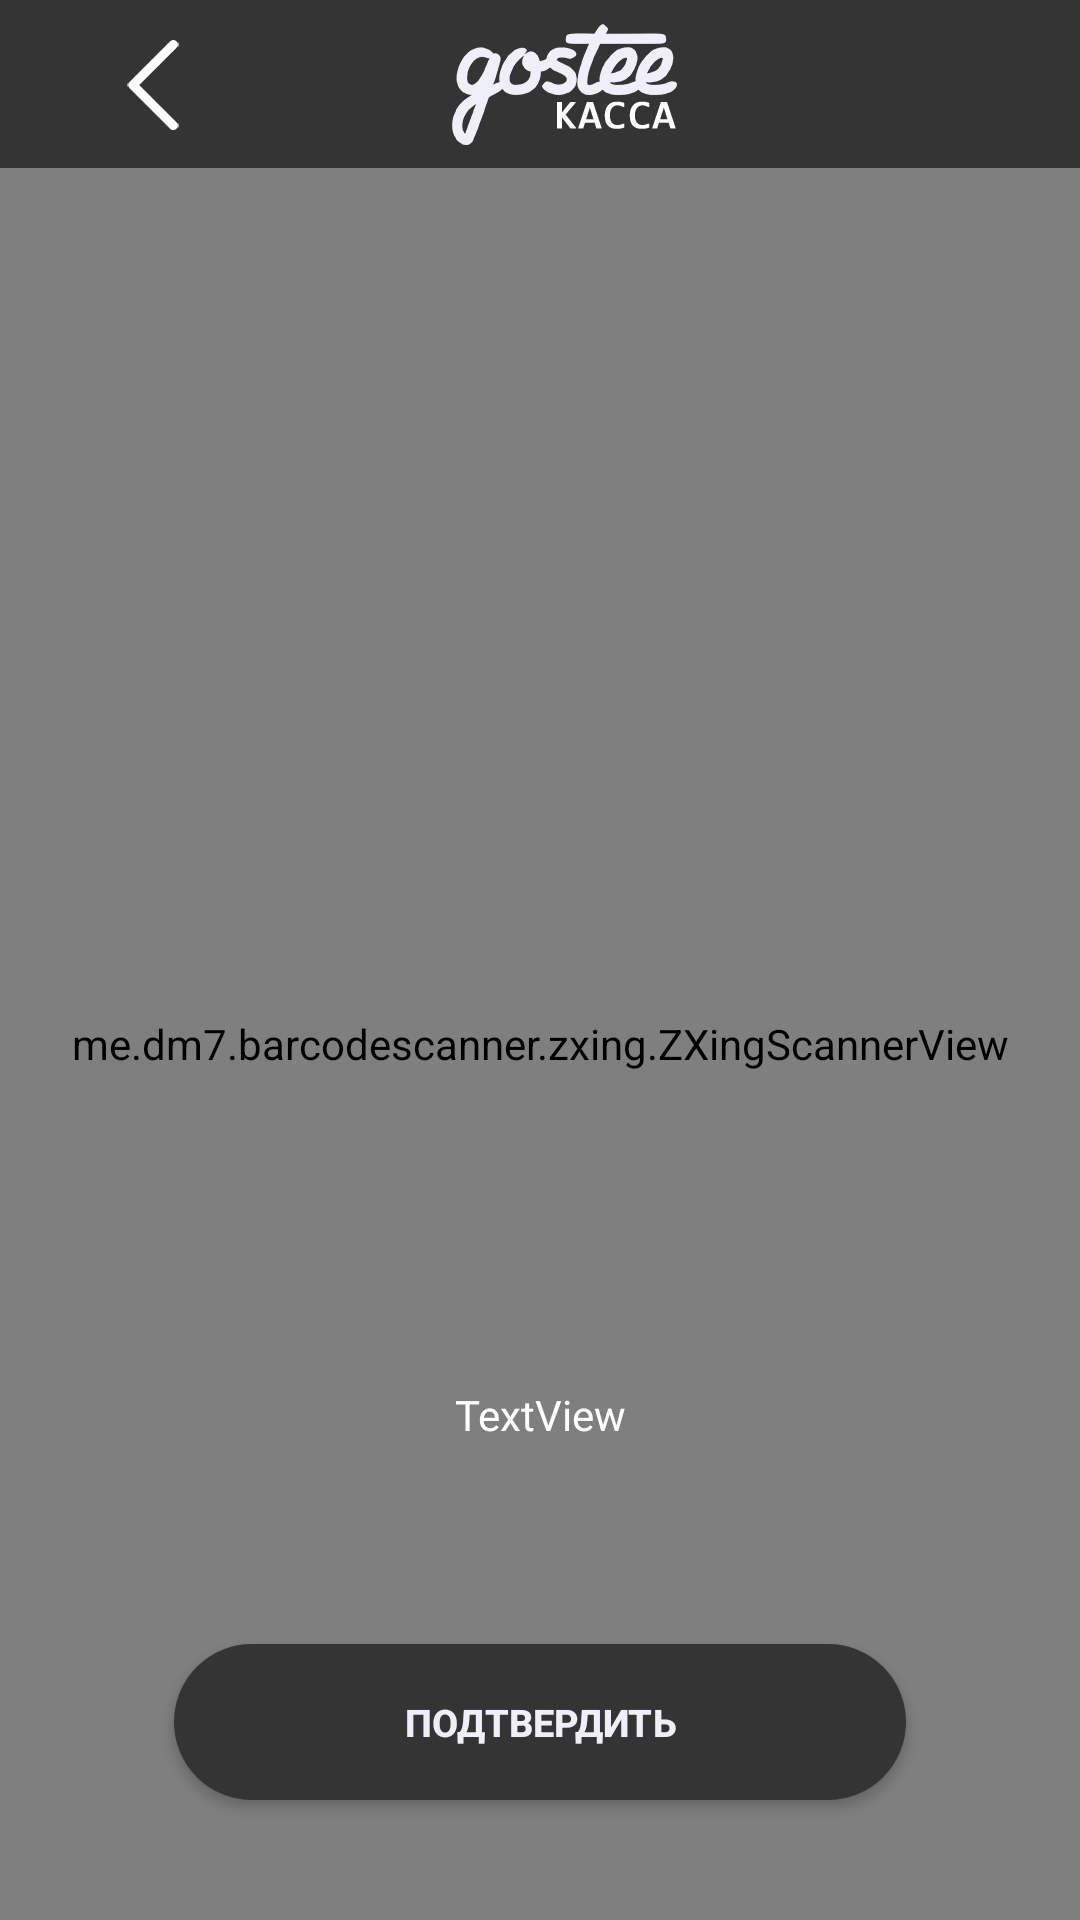

Icon bounding boxes for this 1080px x 1920px phone screenshot, format Rect(x1, y1, x2, y2):
back: Rect(127, 40, 179, 130)
